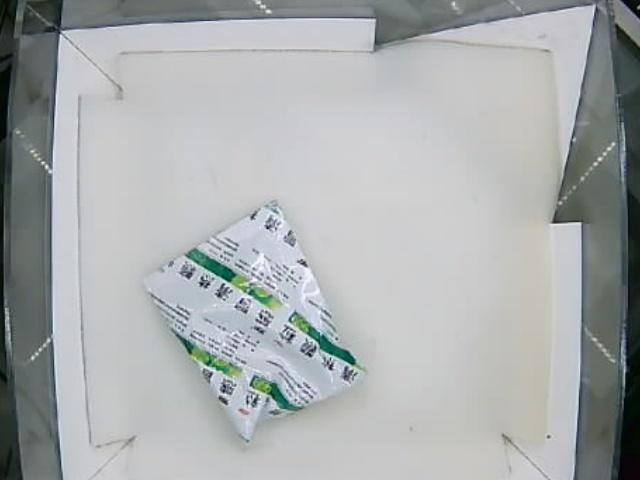Medicine: (142, 202, 362, 441)
